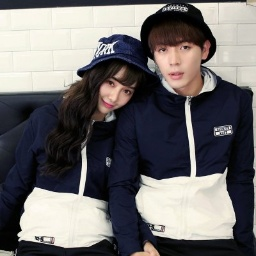face: (149, 20, 215, 95), (70, 54, 142, 113)
